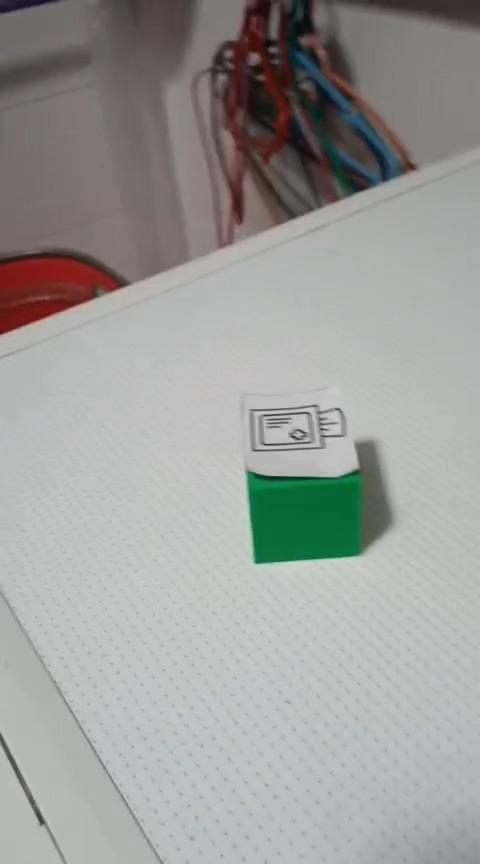Gauze: (239, 384, 363, 564)
